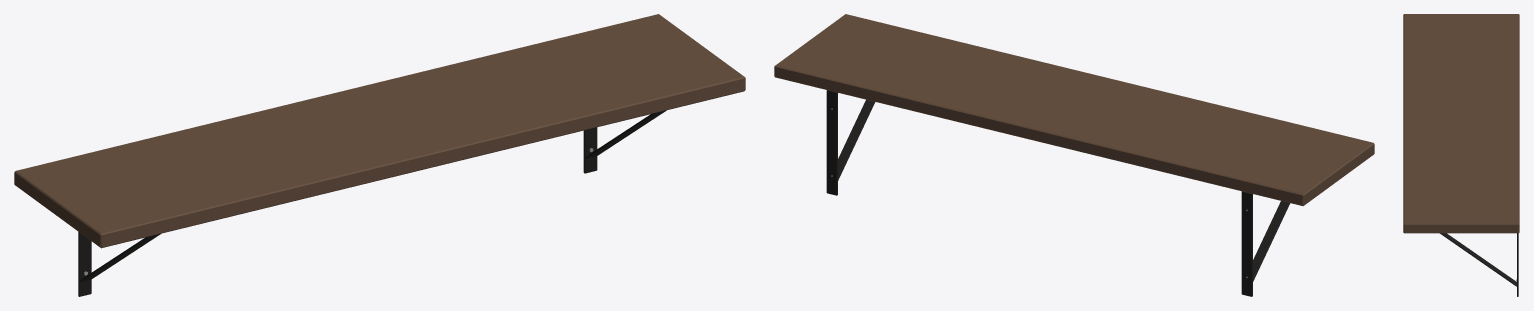
Rendered from kitchen-open-shelf-97c7a177e0da.glb.
3 views of the same model, side by side, from view 1: azimuth 30°, elevation 25°; view 2: azimuth 150°, elevation 25°; view 3: azimuth 270°, elevation 25° (orthographic). The views are drawn at different scales.
Visible parts, largest first — view 1: wood-coffee, enamel-black; view 2: wood-coffee, enamel-black; view 3: wood-coffee, enamel-black.
Part boxes in pixels (<box>): wood-coffee: <box>14,14,745,248</box>; enamel-black: <box>78,110,666,296</box>; wood-coffee: <box>774,14,1374,205</box>; enamel-black: <box>826,90,1290,296</box>; wood-coffee: <box>1403,14,1519,233</box>; enamel-black: <box>1440,233,1518,296</box>.
Size of the model in its own units: 1.2 by 0.25 by 0.28.
